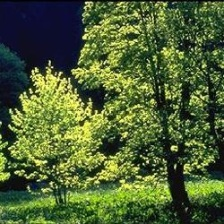neutral: (4, 4, 223, 222)
